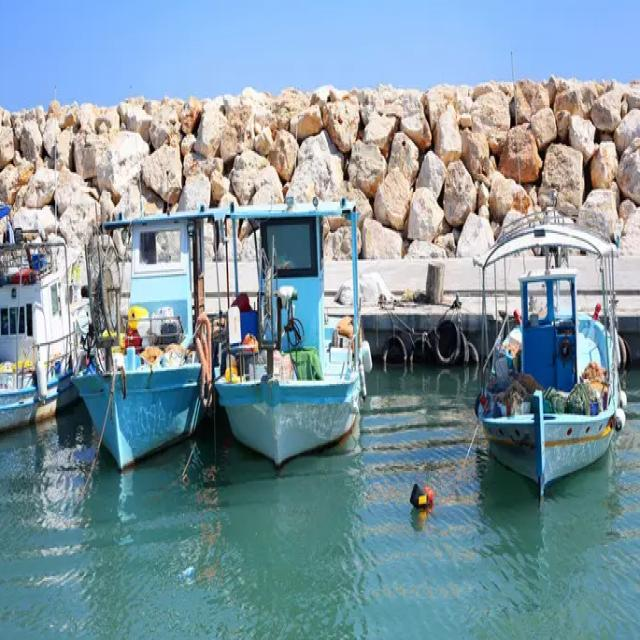fishing boat: (472, 204, 626, 494), (217, 191, 359, 472), (75, 198, 208, 473), (0, 214, 79, 441)
